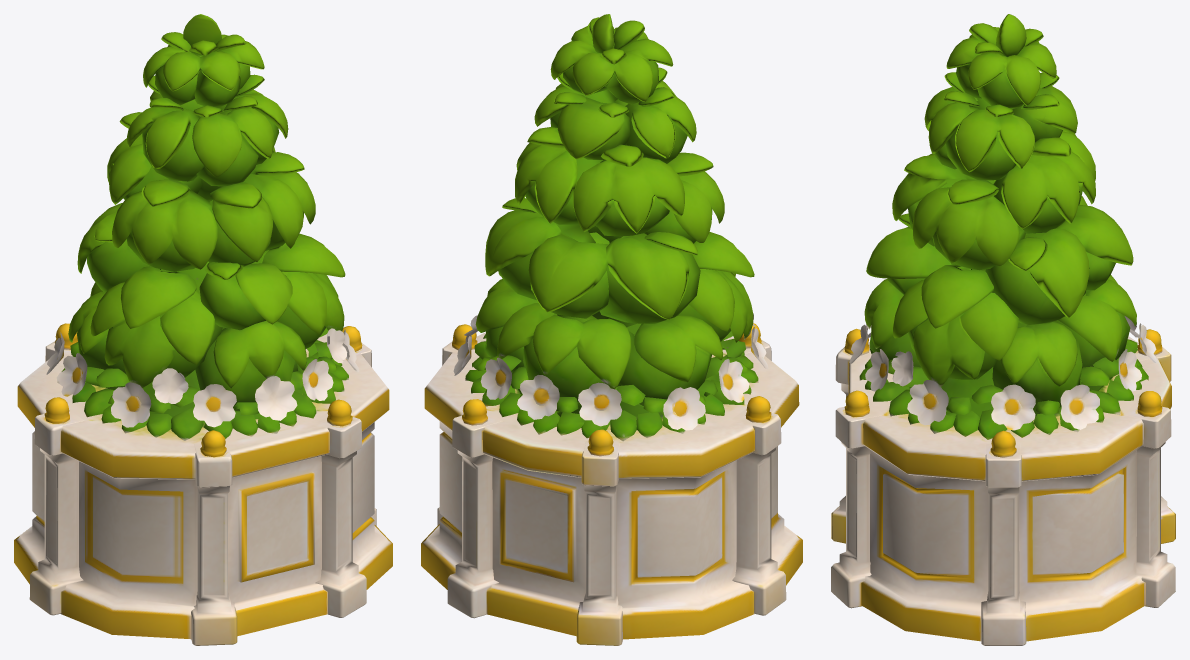
The model's file is HaloVar4_Planter_D_SM_tex4k_src.fbx.
3 views of the same model, side by side, from view 1: azimuth 30°, elevation 25°; view 2: azimuth 150°, elevation 25°; view 3: azimuth 270°, elevation 25° (orthographic).
Parts seen in each view (by area): view 1: tripo_774298fd_754c_40ff_9757_5cf4f595949b; view 2: tripo_774298fd_754c_40ff_9757_5cf4f595949b; view 3: tripo_774298fd_754c_40ff_9757_5cf4f595949b.
Part boxes in pixels (box(x1,y1,x2,y2)): tripo_774298fd_754c_40ff_9757_5cf4f595949b: box(14, 14, 392, 645); tripo_774298fd_754c_40ff_9757_5cf4f595949b: box(421, 14, 802, 645); tripo_774298fd_754c_40ff_9757_5cf4f595949b: box(831, 14, 1175, 645).
Bounding box in the file's own units: 0.6187 × 0.9995 × 0.564.
1 material, 1 textured.
